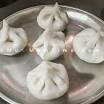modak: (29, 59, 70, 99), (33, 23, 67, 61), (72, 25, 104, 65), (36, 1, 72, 33), (1, 18, 30, 55)
